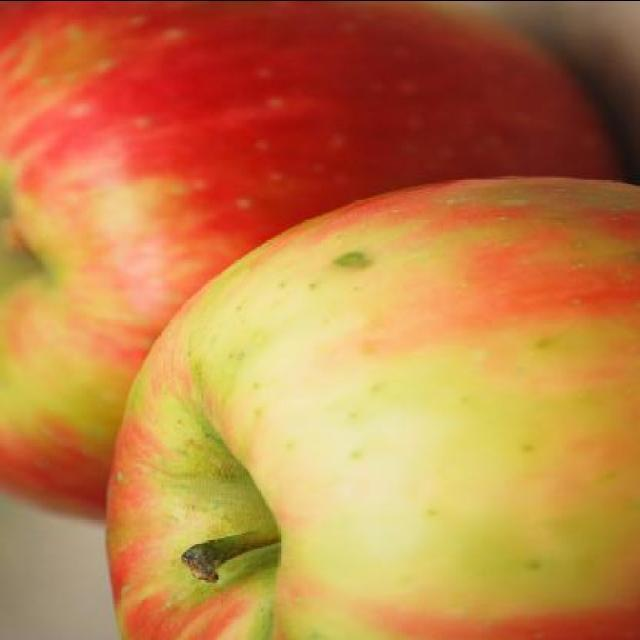Apple pie: (0, 1, 618, 526), (106, 176, 640, 640)
